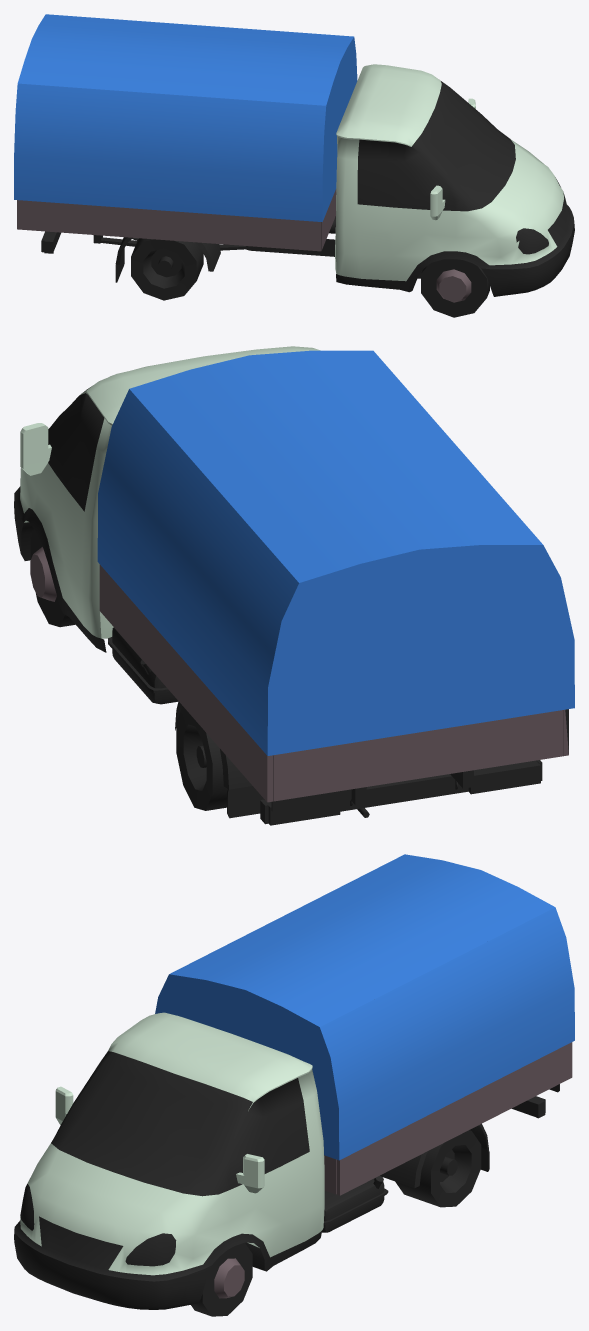
The model's file is Car.fbx.
3 views of the same model, one above another, from view 1: azimuth 30°, elevation 25°; view 2: azimuth 150°, elevation 25°; view 3: azimuth 270°, elevation 25° (orthographic). The views are drawn at different scales.
Visible parts, largest first — view 1: 5_GAZ-3302(tent)_0.1_16_16; view 2: 5_GAZ-3302(tent)_0.1_16_16; view 3: 5_GAZ-3302(tent)_0.1_16_16.
Part boxes in pixels (bbox=[...]): 5_GAZ-3302(tent)_0.1_16_16: bbox=[14, 14, 574, 317]; 5_GAZ-3302(tent)_0.1_16_16: bbox=[14, 346, 574, 825]; 5_GAZ-3302(tent)_0.1_16_16: bbox=[14, 854, 574, 1316].
Size of the model in its own units: 750 by 333 by 683.
